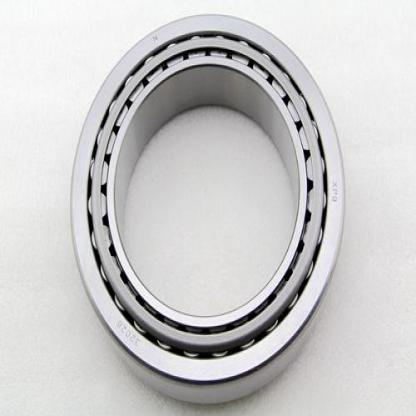FOD: (67, 6, 351, 414)
